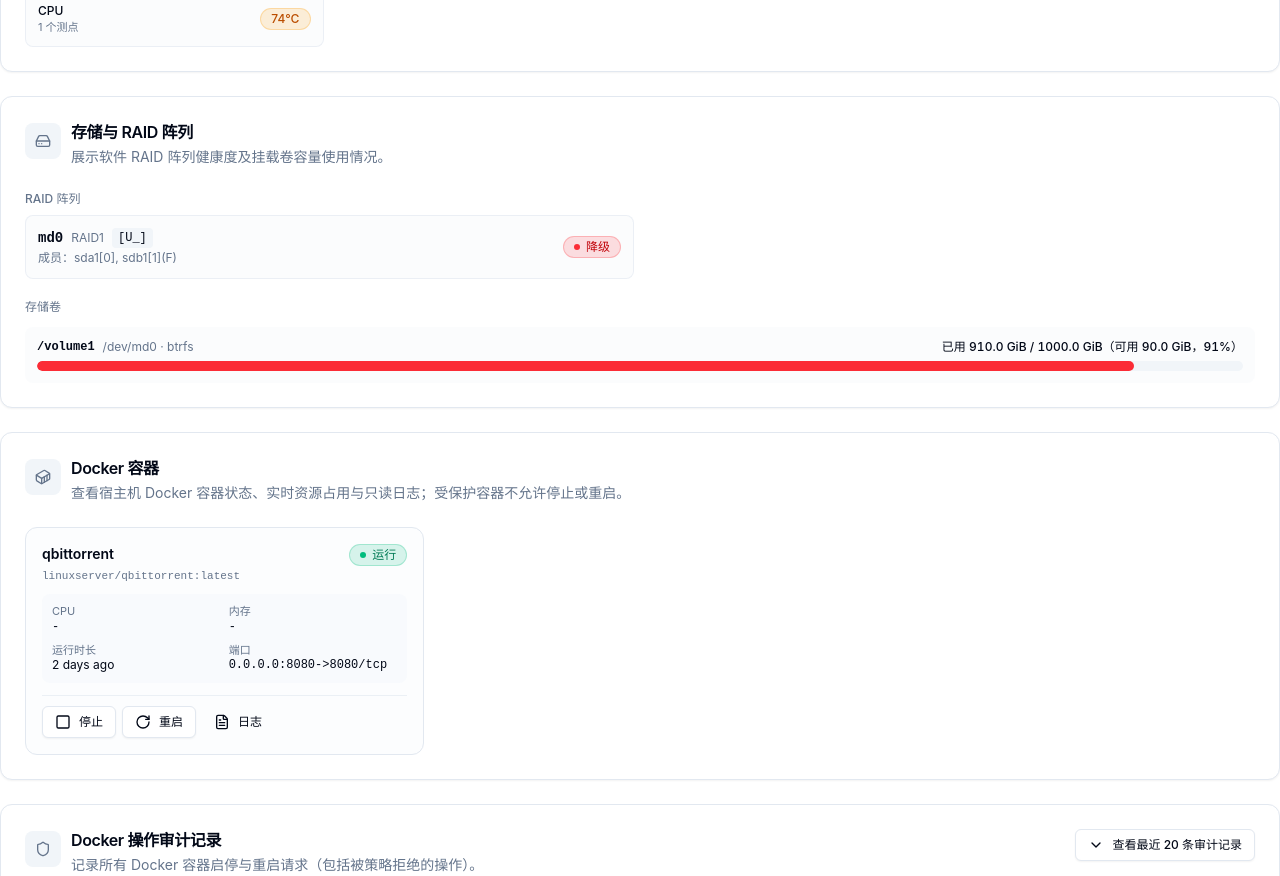
NasPage NAS 监控与 Docker 容器管理页 › 容器操作返回 504 时显示超时提示并在 3 秒后自动刷新一次状态
(page scrolled)
Expected: the text "qbittorrent" is shown, top-left (42, 544), bottom-right (114, 564)
Expected: the text "运行" is shown, top-left (372, 546), bottom-right (396, 562)
Click the button with aria-label "停止 qbittorrent" at (79, 722), box top-left (42, 706), bottom-right (116, 738)
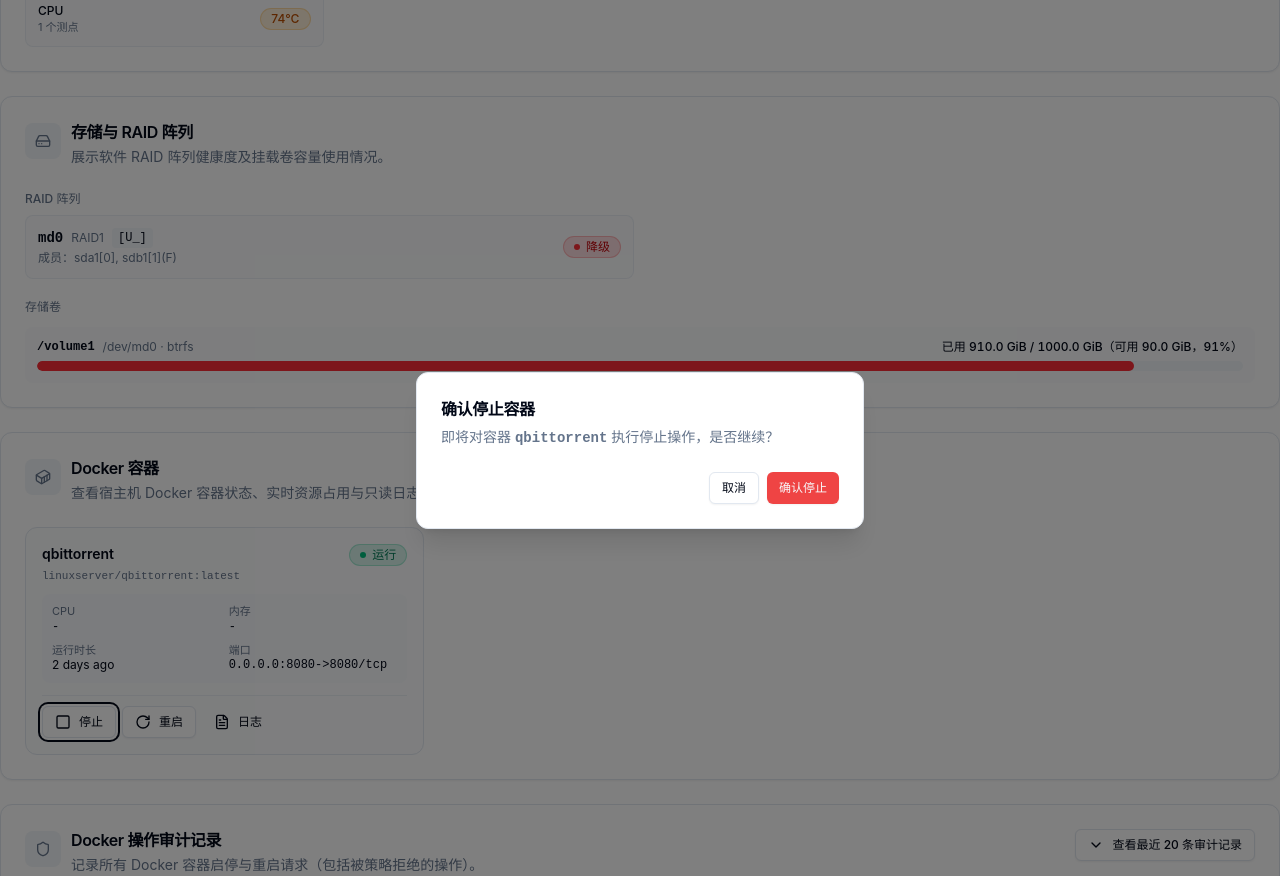
Click the button "确认停止" at (803, 488), box top-left (767, 472), bottom-right (839, 504)
Wait 8000 ms
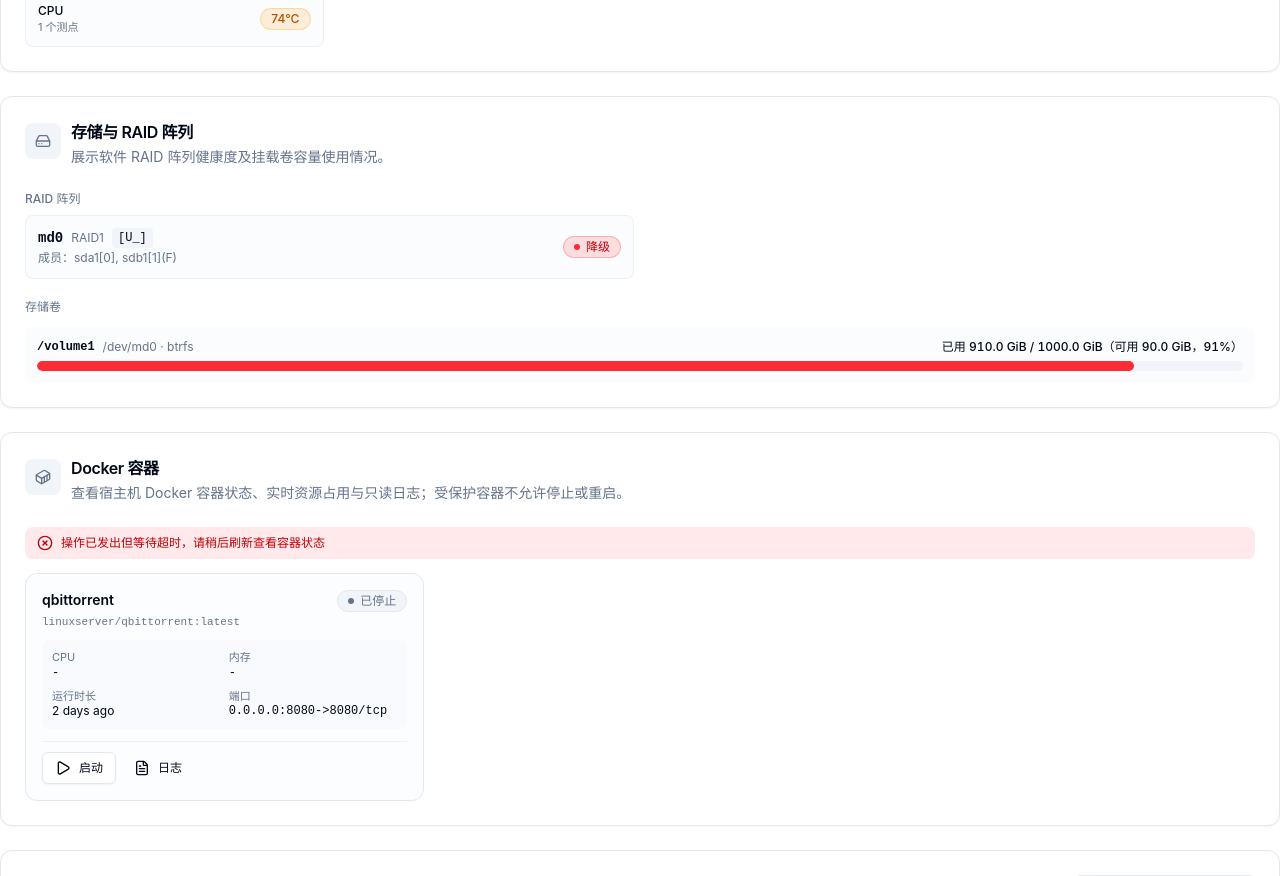
Result: the text "操作已发出但等待超时，请稍后刷新查看容器状态" is shown at top-left (61, 534), bottom-right (325, 550)
Result: the text "已停止" is shown at top-left (360, 592), bottom-right (396, 608)
